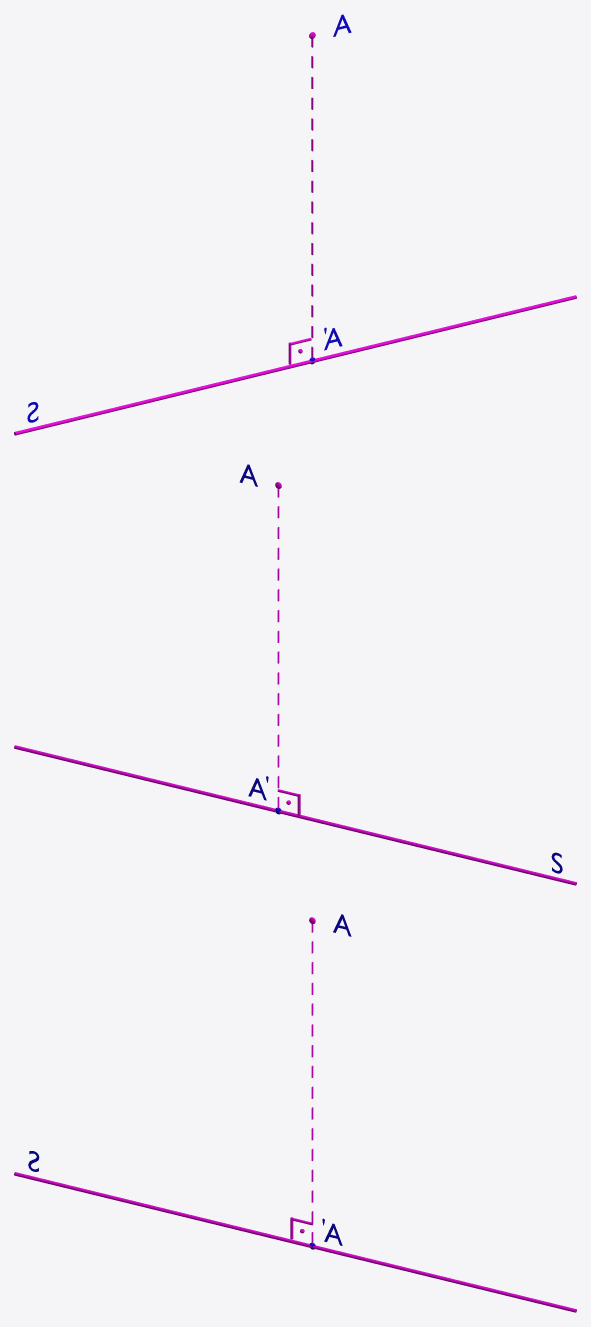
3 views of the same model, one above another, from view 1: azimuth 30°, elevation 25°; view 2: azimuth 150°, elevation 25°; view 3: azimuth 330°, elevation 25° (orthographic).
Visible parts, largest first — view 1: reta_r_linha_Cylinder, A17_Cylinder; view 2: reta_r_linha_Cylinder, A17_Cylinder; view 3: reta_r_linha_Cylinder, A17_Cylinder.
Part boxes in pixels (x1,y1,x2,y2): reta_r_linha_Cylinder: (14, 295, 576, 435); A17_Cylinder: (288, 38, 313, 364); reta_r_linha_Cylinder: (14, 745, 576, 885); A17_Cylinder: (277, 488, 300, 815); reta_r_linha_Cylinder: (14, 1172, 576, 1312); A17_Cylinder: (290, 924, 313, 1243).
Size of the model in its own units: 7 by 4.08 by 0.0654.
